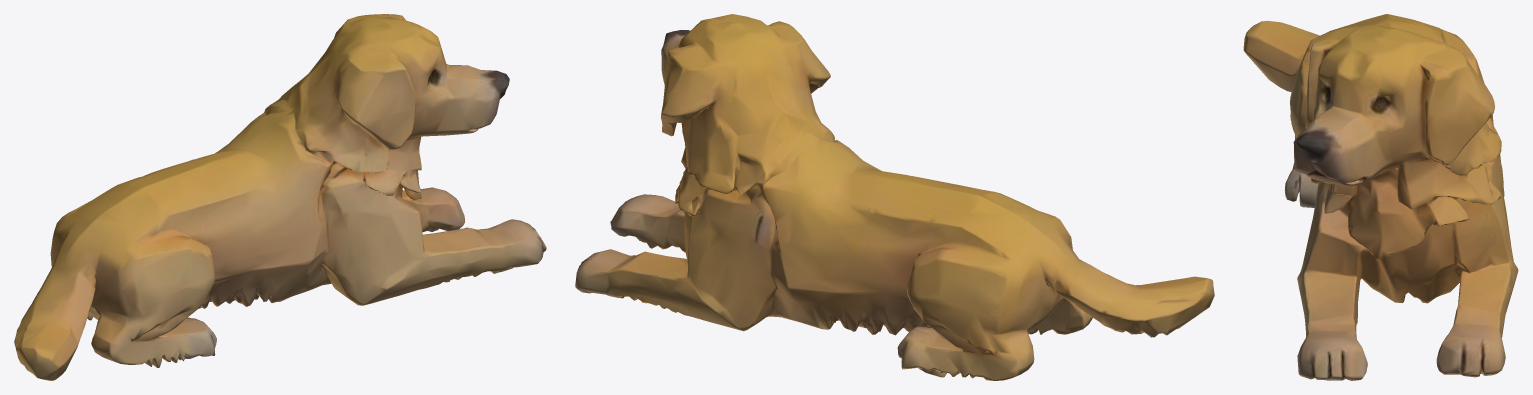
File: dog.glb
3 renders of one model, left to right at view 1: azimuth 30°, elevation 25°; view 2: azimuth 150°, elevation 25°; view 3: azimuth 270°, elevation 25°, orthographic. The views are drawn at different scales.
Size of the model in its own units: 0.9986 by 0.4433 by 0.379.
1 material, 1 textured.
